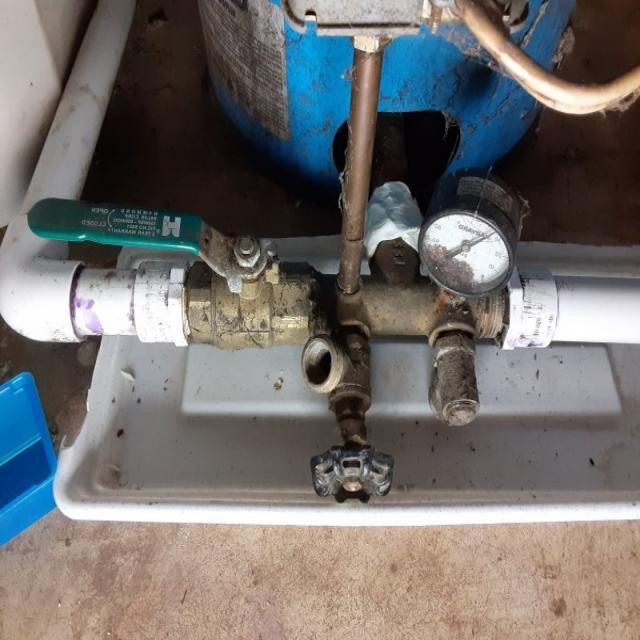opened_valve: (25, 194, 318, 344)
